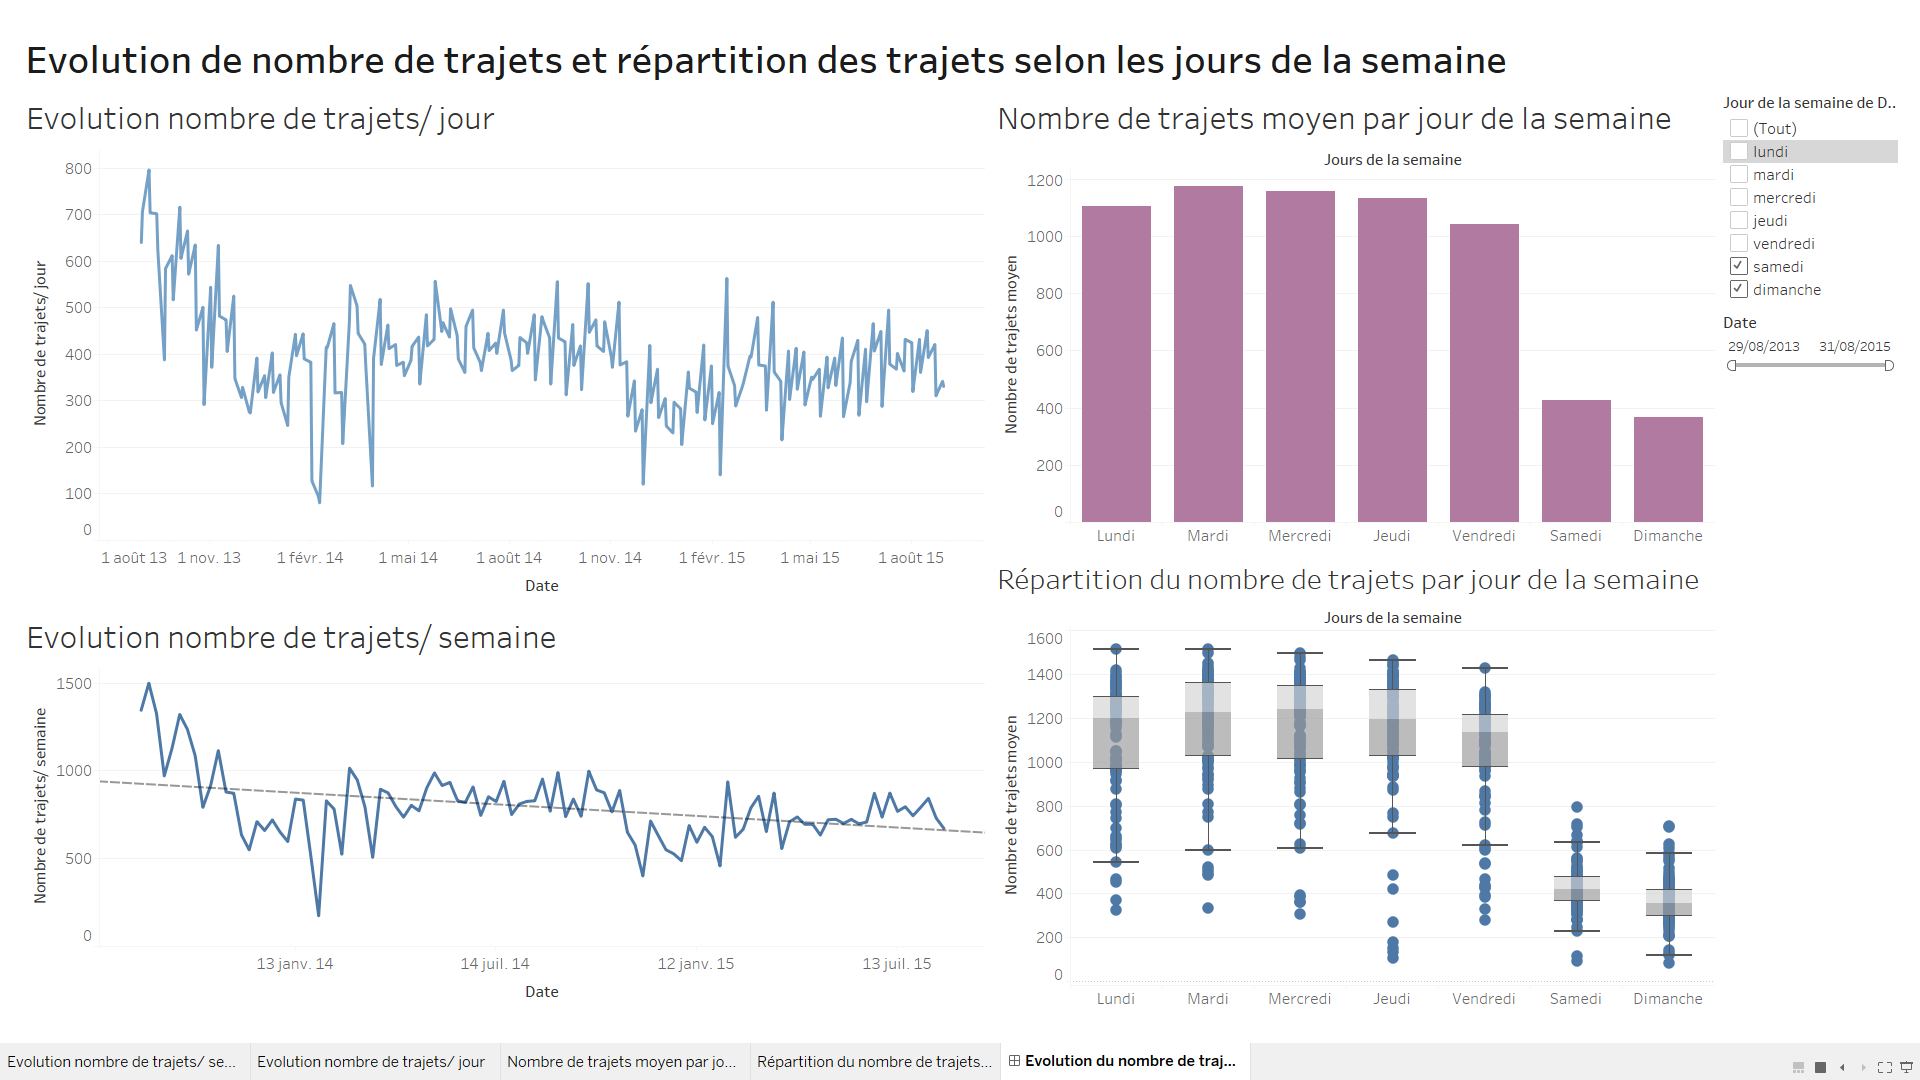

The dashboard page shown, as its layout file describes it:
{"tool":"tableau","page":{"name":"Evolution du nombre de trajets et répartition des trajets selon les jours de la semaine","canvas":[1900,1000],"ordinal":0},"visuals":[{"type":"title","box":[8,8,1884,59]},{"type":"worksheet","title":"Evolution nombre de trajets/ jour","mark":"Line","rows":["id"],"cols":["Calculation_1006836019017273345"],"box":[8,67,971,519]},{"type":"worksheet","title":"Nombre de trajets moyen par jour de la semaine ","mark":"Bar","rows":["Calculation_1006836019083304971"],"cols":["Calculation_1006836019085680653"],"box":[979,67,730,462.5]},{"type":"filter","title":"Evolution nombre de trajets/ semaine","param":"[federated.1pm1bb40dlc9df1fdqk2f18jr6kl].[wd:Calculation_1006836019017273345:ok]","box":[1709,67,183,220]},{"type":"filter","title":"Evolution nombre de trajets/ semaine","param":"[federated.1pm1bb40dlc9df1fdqk2f18jr6kl].[none:Calculation_1006836019017273345:q","box":[1709,287,183,73]},{"type":"worksheet","title":"Répartition du nombre de trajets par jour de la semaine","mark":"Circle","rows":["Calculation_1006836019083304971"],"cols":["Calculation_1006836019085680653"],"box":[979,529.5,730,462.5]},{"type":"worksheet","title":"Evolution nombre de trajets/ semaine","mark":"Automatic","rows":["id"],"cols":["Calculation_1006836019017273345"],"box":[8,586,971,406]}]}

Visuals, with their boxes on the page's 1900x1000 design canvas (x1, y1, x2, y2). These are canvas units, not pixel positions in the 1920x1080 screenshot, which may show the page scaled, cropped or inside an application window:
title: box=[8, 8, 1892, 67]
"Evolution nombre de trajets/ jour" worksheet (Line marks): box=[8, 67, 979, 586]
"Nombre de trajets moyen par jour de la semaine " worksheet (Bar marks): box=[979, 67, 1709, 530]
"Evolution nombre de trajets/ semaine" filter: box=[1709, 67, 1892, 287]
"Evolution nombre de trajets/ semaine" filter: box=[1709, 287, 1892, 360]
"Répartition du nombre de trajets par jour de la semaine" worksheet (Circle marks): box=[979, 530, 1709, 992]
"Evolution nombre de trajets/ semaine" worksheet: box=[8, 586, 979, 992]
